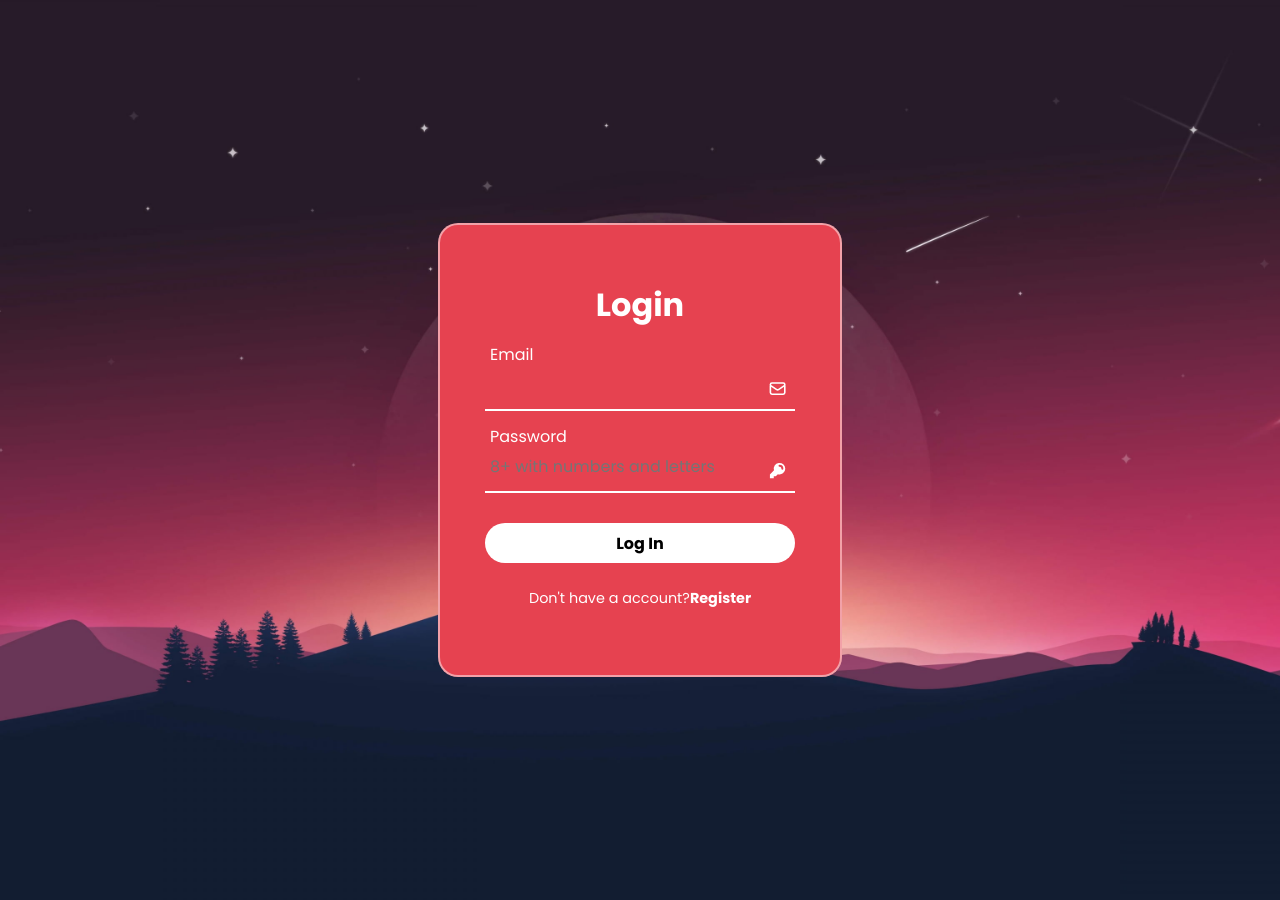
Test Login component › displays an error message when email input format is incorrect
This screenshot has width=1280, height=900.
Type "test" into the field labelled "Email".
click(660, 384); type("test")  # box [485,359,835,409]
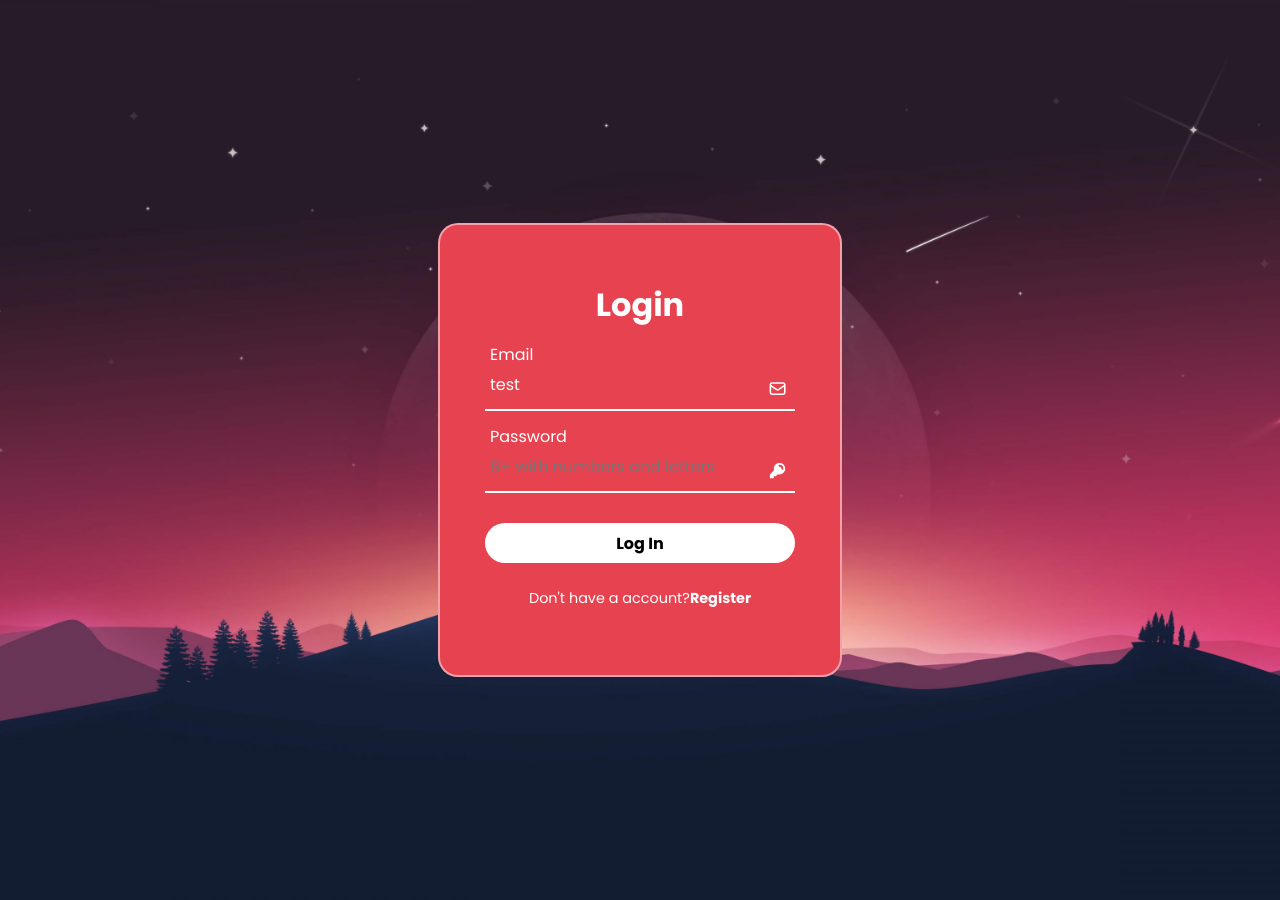
Type "password" into the password field labelled "Password".
click(660, 466); type("password")  # box [485,441,835,491]
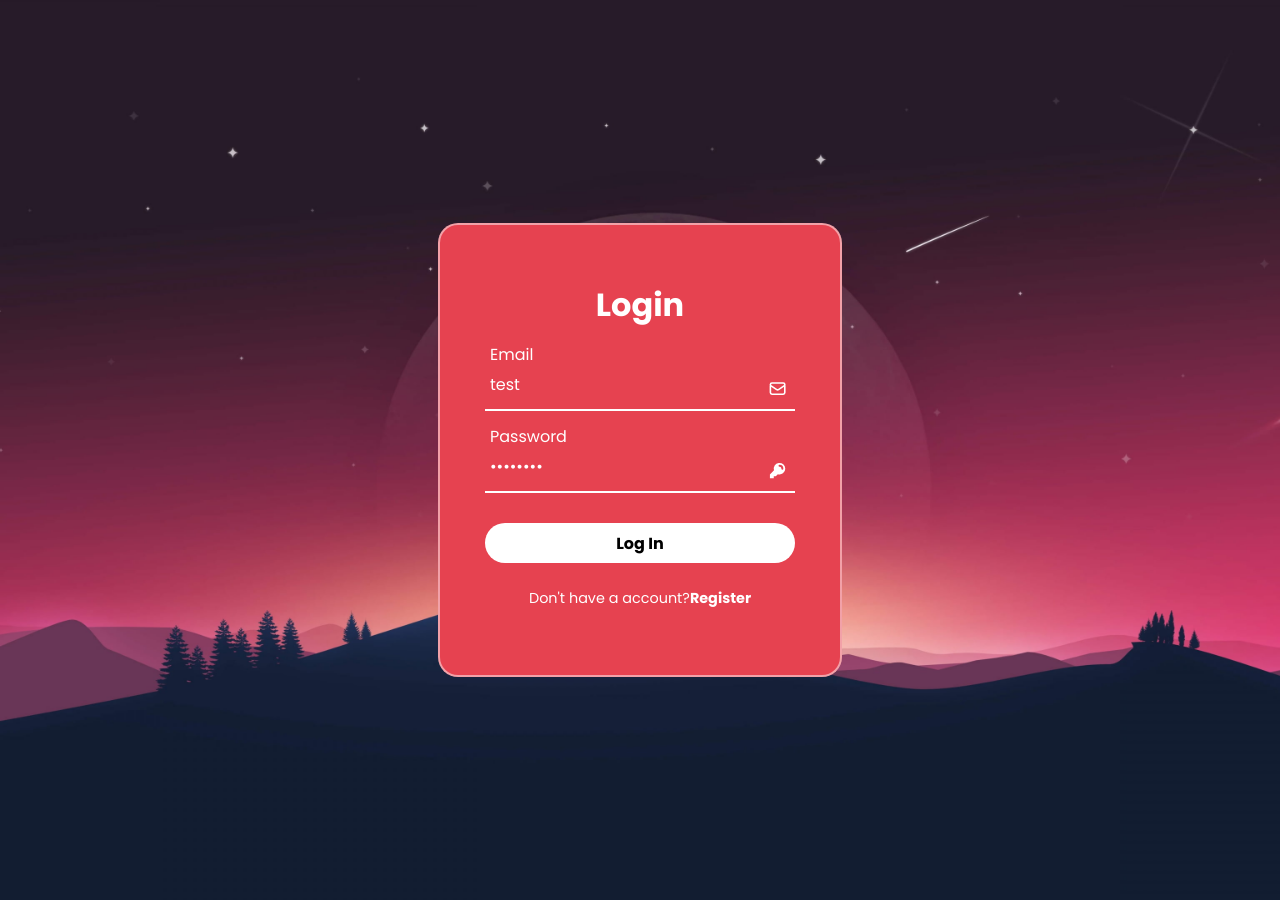
Click the button "Log In".
click(640, 543)  # box [485,523,795,563]
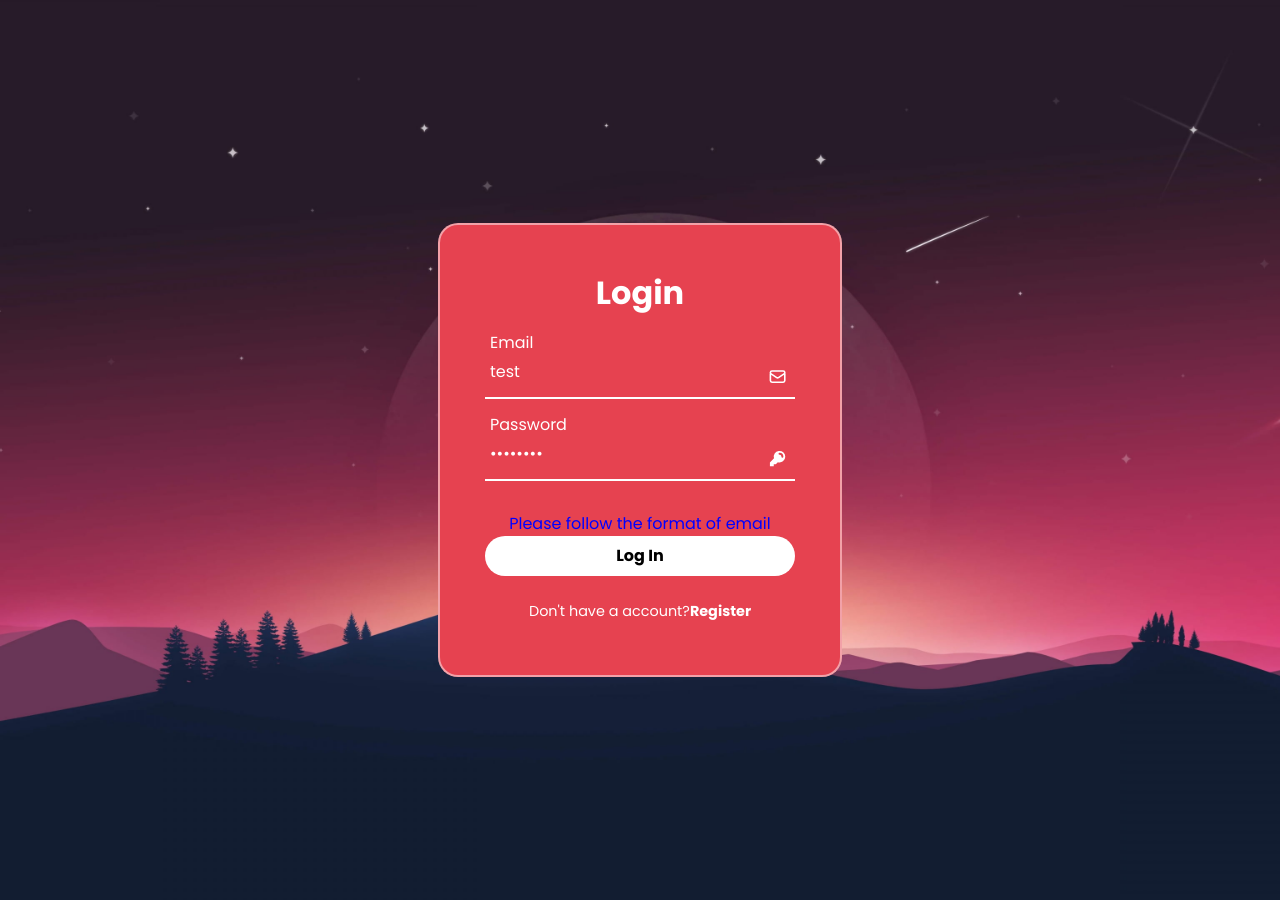
Expected: the text "Please follow the format of email" is shown, [509,510,771,536]
